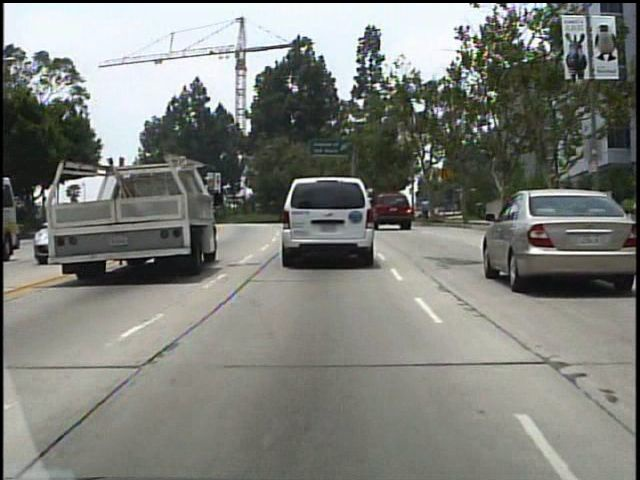person: (420, 194, 433, 226)
